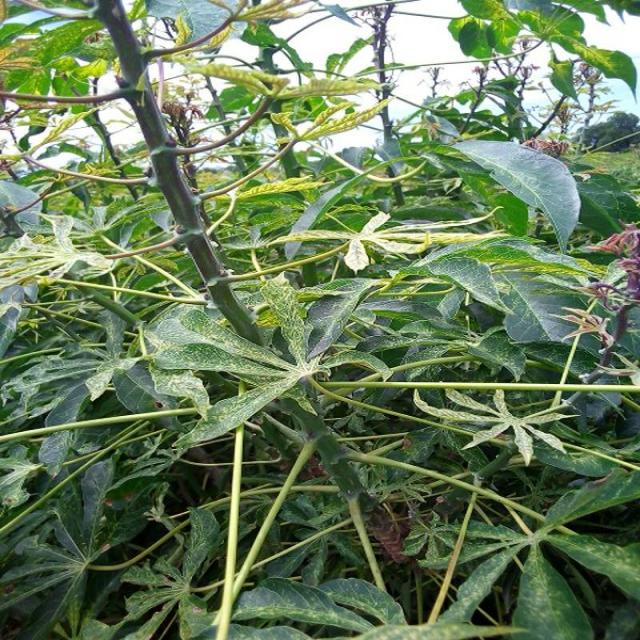cassava leaf: (450, 136, 582, 250)
